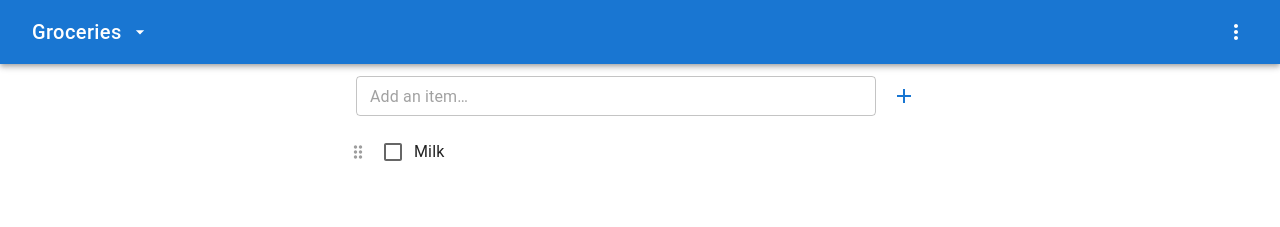
multiple lists › switches lists from the AppBar dropdown
Expected: the text "Milk" is shown, [414,142,444,161]
Click the button "Groceries" at [77, 32], box [24,8,1216,56]
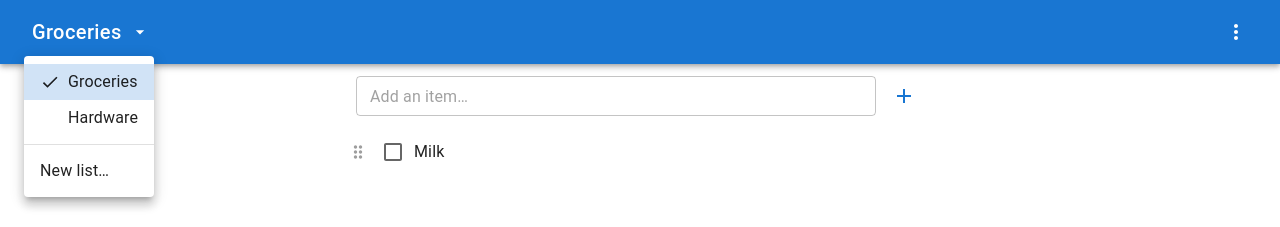
Click the menu item "Hardware" at [103, 118], box [68,108,138,127]
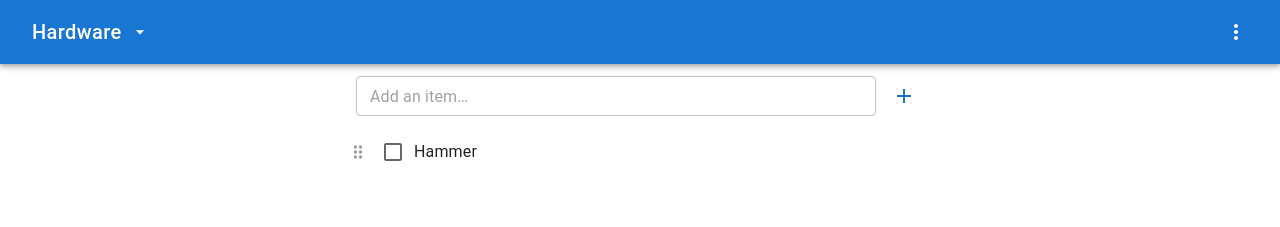
Result: the text "Hammer" is shown at [414,142,477,161]
Result: the text "Milk" is gone
Result: the button "Hardware" is shown at [24,8,1216,56]
